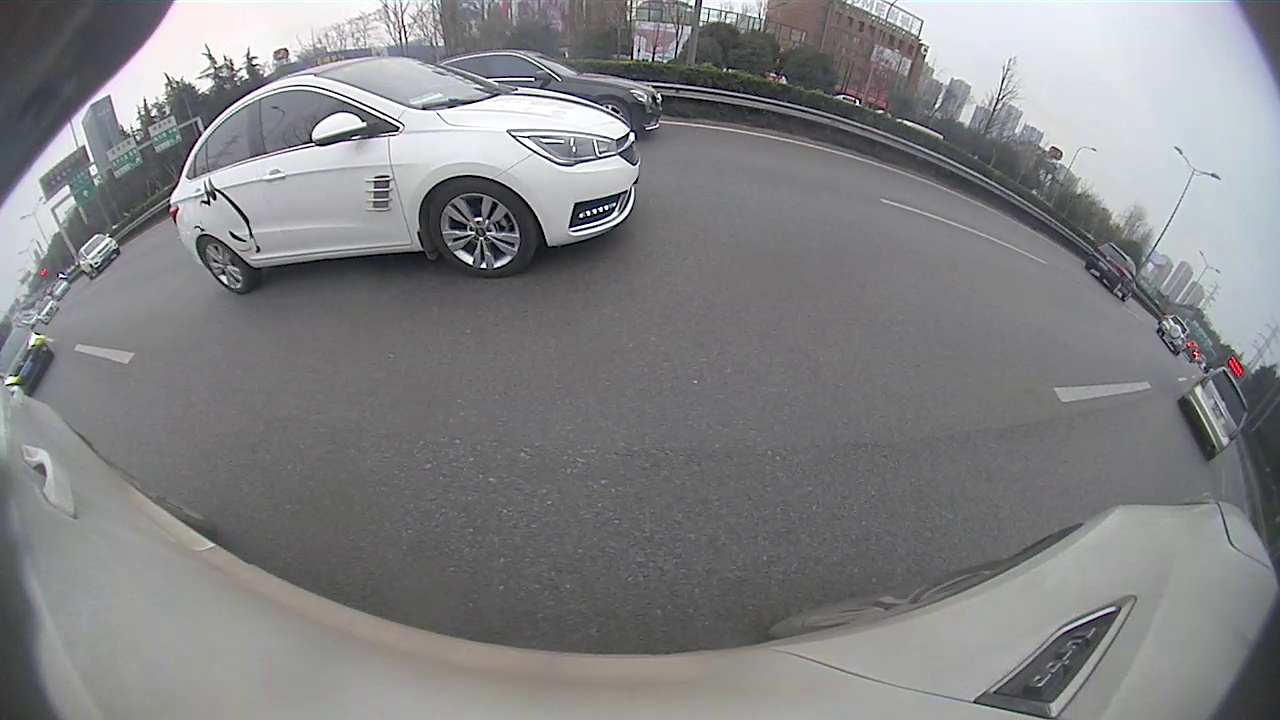car: (167, 52, 643, 296), (1179, 365, 1250, 461), (1, 322, 60, 400), (1085, 242, 1138, 303), (76, 232, 123, 280), (1156, 315, 1191, 355)
front: (423, 178, 544, 280)
rear: (194, 236, 263, 296)
